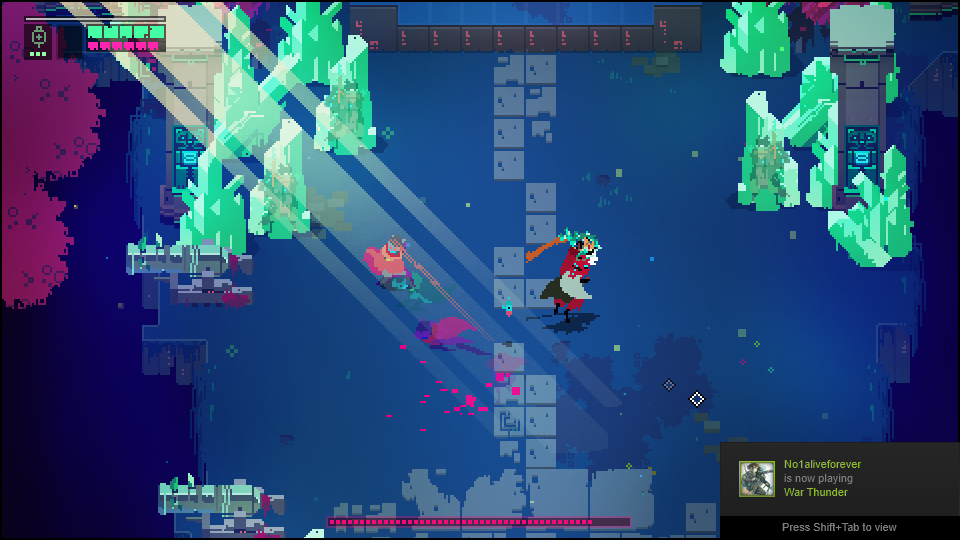hanged_man: (523, 227, 607, 334)
player: (357, 233, 414, 290)
